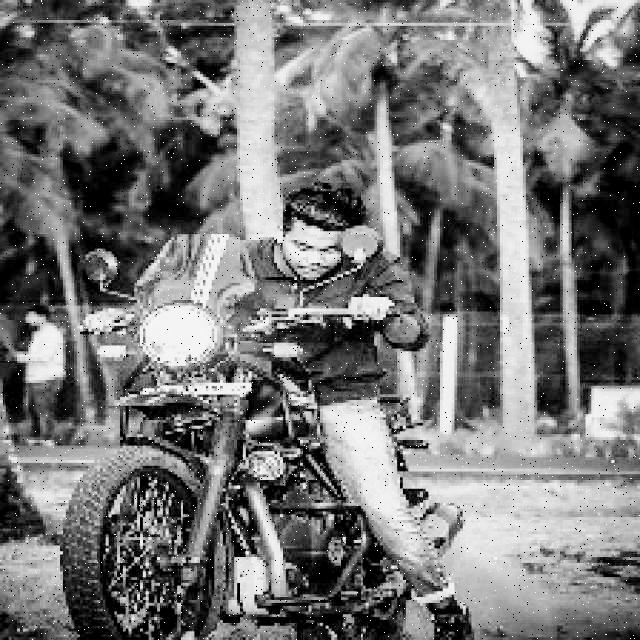Bike: (56, 296, 390, 640)
